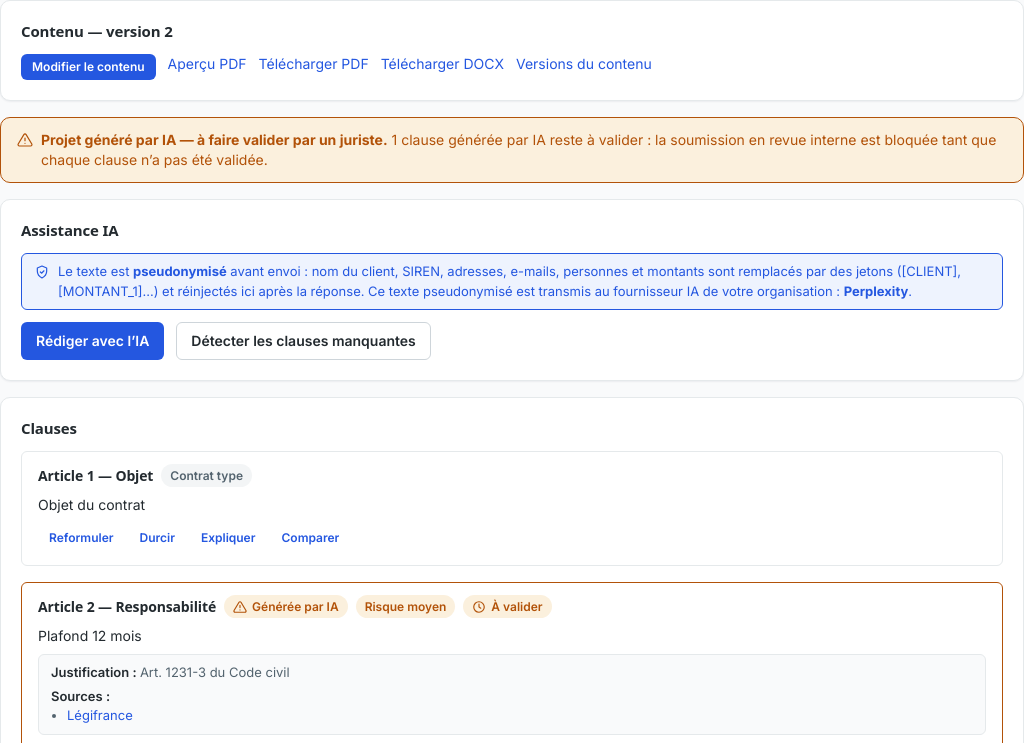
it: « Durcir » affiche la suggestion ; « Remplacer la clause » enregistre une nouvelle version (origine IA)
This screenshot has width=1024, height=743.
Click the button with aria-label "Durcir la clause Objet": (157, 538) [128,523,186,553]
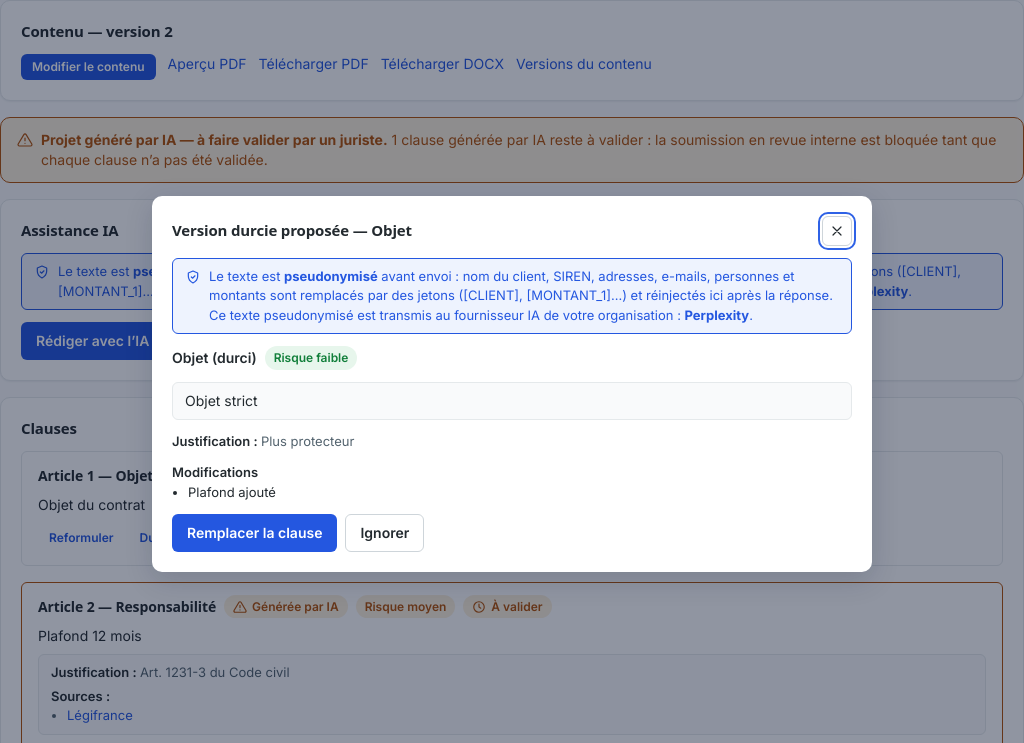
Result: the text "Objet strict" is shown at [185,392,258,409]
Result: the list item "Plafond ajouté" is shown at [188,484,276,500]
Result: the text "pseudonymisé" is shown at [284,268,378,284]
Click the button "Remplacer la clause": (255, 533) [172,514,337,552]
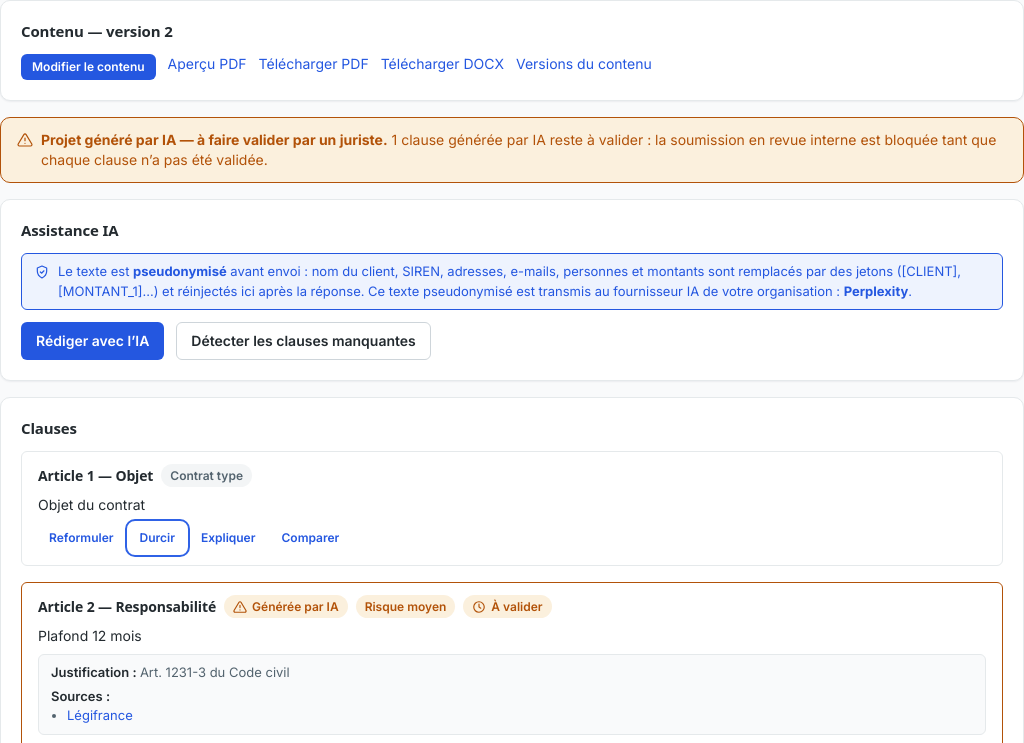
Result: the dialog is gone
